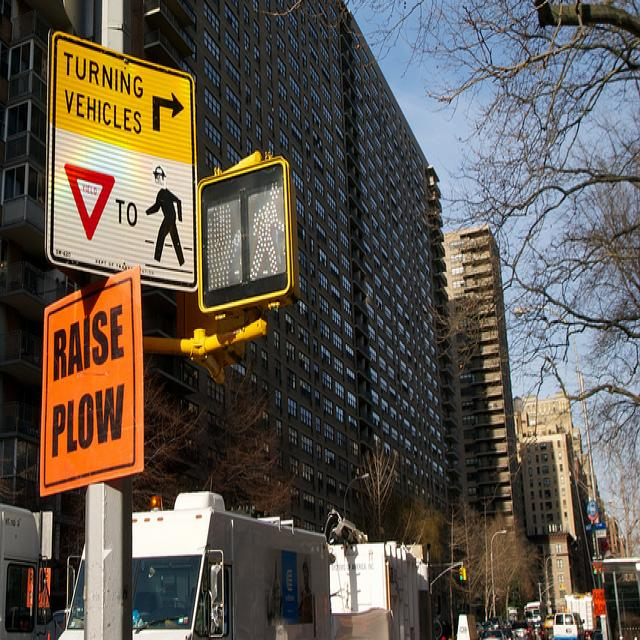Vehicle: (132, 484, 333, 632), (328, 540, 434, 640), (564, 591, 596, 640), (554, 611, 586, 640), (512, 622, 536, 640), (480, 629, 508, 640), (503, 620, 512, 630)
